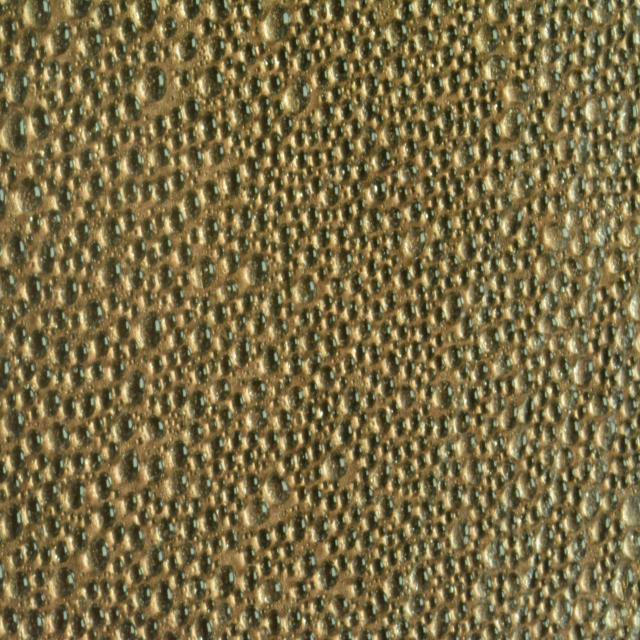dr: (0, 111, 28, 154), (264, 3, 292, 42), (141, 65, 168, 103), (22, 0, 54, 32), (16, 177, 43, 214), (190, 256, 218, 290), (46, 20, 72, 56), (542, 219, 571, 251), (284, 78, 309, 115), (614, 560, 635, 604), (84, 536, 109, 572), (245, 252, 271, 286), (8, 69, 32, 105), (99, 256, 124, 290), (141, 311, 163, 349), (199, 66, 225, 98), (28, 102, 51, 138), (101, 214, 124, 250), (134, 0, 159, 33), (126, 368, 148, 405), (52, 566, 77, 598), (244, 500, 272, 528), (79, 28, 104, 58), (118, 93, 143, 123), (118, 450, 140, 484), (166, 466, 190, 497), (176, 31, 199, 63), (213, 567, 236, 599), (221, 164, 243, 197), (432, 602, 451, 640), (154, 581, 174, 617), (442, 292, 464, 324), (574, 356, 596, 388), (264, 477, 290, 504), (36, 238, 56, 273), (553, 595, 573, 630), (324, 451, 348, 480), (6, 232, 27, 265), (590, 511, 611, 544), (82, 299, 105, 329), (548, 98, 567, 134), (615, 320, 634, 356), (452, 515, 471, 551), (621, 494, 640, 530), (16, 31, 38, 62), (96, 0, 118, 31), (124, 145, 146, 176), (584, 94, 606, 125), (58, 275, 80, 306), (48, 422, 70, 453), (597, 416, 617, 450), (506, 76, 530, 104), (405, 226, 426, 258), (193, 322, 214, 354), (485, 538, 506, 570), (6, 500, 23, 539), (502, 109, 523, 140), (587, 0, 613, 25), (24, 607, 44, 639), (49, 602, 69, 634), (199, 108, 217, 143), (387, 18, 408, 48), (479, 22, 500, 52), (582, 486, 601, 519), (485, 0, 509, 26), (318, 560, 338, 591), (68, 478, 86, 512), (146, 543, 164, 577), (623, 526, 640, 562), (166, 204, 187, 233), (410, 562, 431, 591), (98, 499, 117, 531), (509, 429, 528, 461), (233, 97, 253, 127), (482, 324, 502, 354), (6, 408, 26, 438), (30, 330, 50, 360), (246, 405, 270, 430), (232, 336, 252, 366), (61, 0, 94, 18), (262, 578, 283, 606), (260, 345, 280, 374), (297, 550, 317, 579), (25, 273, 42, 307), (2, 604, 20, 636), (465, 454, 483, 486), (562, 413, 580, 445), (296, 274, 315, 304), (505, 204, 524, 234), (537, 251, 556, 281), (0, 267, 19, 297), (146, 454, 165, 484), (386, 568, 405, 598), (518, 471, 537, 501), (555, 304, 576, 331), (0, 14, 20, 42), (82, 114, 102, 142), (125, 236, 145, 264), (542, 38, 562, 66), (620, 97, 636, 132), (514, 172, 534, 200), (518, 220, 538, 248), (569, 327, 589, 355), (42, 390, 62, 418), (607, 602, 627, 630), (374, 458, 392, 489), (501, 400, 519, 431), (206, 0, 229, 24), (363, 204, 382, 233), (435, 380, 454, 409), (574, 598, 595, 624), (624, 22, 640, 56), (56, 182, 74, 212), (183, 190, 201, 220), (384, 118, 402, 148), (578, 288, 596, 318), (188, 391, 208, 418), (188, 573, 206, 603), (193, 613, 213, 640), (398, 382, 416, 412), (536, 523, 554, 553), (458, 430, 478, 457), (359, 125, 377, 154), (12, 571, 30, 600), (343, 386, 361, 415), (207, 37, 227, 63), (456, 140, 476, 166), (398, 300, 418, 326), (321, 180, 340, 207), (8, 444, 27, 471), (157, 515, 176, 542), (55, 336, 71, 368), (334, 318, 351, 348), (200, 180, 222, 203), (222, 248, 240, 276), (398, 163, 419, 187), (488, 52, 506, 80), (620, 220, 638, 248), (117, 413, 135, 441), (569, 532, 587, 560), (181, 98, 201, 123), (595, 220, 611, 251), (267, 287, 283, 318), (520, 394, 536, 425), (77, 62, 96, 88), (158, 14, 177, 40), (127, 264, 146, 290), (202, 214, 219, 243), (26, 427, 43, 456), (72, 216, 90, 243), (368, 176, 386, 203), (408, 591, 426, 618), (503, 483, 521, 510), (211, 379, 232, 402), (571, 173, 586, 205), (97, 470, 113, 500), (145, 414, 165, 438), (291, 515, 307, 545), (518, 529, 533, 561), (582, 562, 598, 592), (237, 204, 254, 232), (389, 51, 406, 79), (586, 152, 603, 180), (243, 565, 260, 593), (476, 571, 493, 599), (590, 392, 609, 417), (45, 209, 63, 235), (153, 176, 171, 202), (416, 26, 434, 52), (172, 440, 190, 466), (556, 444, 574, 470), (516, 367, 534, 393), (586, 29, 601, 60), (27, 494, 42, 525), (122, 177, 138, 206), (180, 0, 203, 20), (185, 146, 205, 169), (326, 0, 346, 23), (573, 5, 593, 28), (318, 614, 338, 637), (0, 43, 17, 70), (253, 207, 270, 234), (571, 228, 588, 255), (113, 577, 130, 604), (313, 515, 330, 542), (100, 132, 119, 156), (86, 172, 105, 196), (561, 385, 580, 409), (120, 18, 138, 43), (436, 215, 454, 240), (248, 378, 266, 403), (438, 106, 454, 134), (612, 246, 628, 274), (128, 523, 144, 551), (373, 586, 389, 614), (422, 470, 438, 498), (539, 492, 555, 520), (511, 30, 528, 56), (528, 1, 545, 27), (488, 167, 505, 193), (337, 418, 354, 444), (68, 101, 84, 128), (140, 216, 158, 240), (220, 277, 238, 301), (303, 204, 319, 231), (333, 55, 349, 82), (427, 237, 445, 261), (446, 68, 462, 95), (558, 133, 574, 160), (470, 177, 488, 201), (460, 233, 476, 260), (466, 281, 484, 305), (80, 391, 96, 418), (94, 332, 110, 359), (385, 350, 401, 377), (350, 552, 368, 576), (565, 509, 583, 533), (495, 354, 513, 378), (58, 154, 75, 179), (58, 128, 75, 153), (153, 140, 170, 165), (77, 147, 94, 172), (360, 98, 377, 123), (374, 145, 391, 170), (612, 277, 629, 302), (115, 315, 132, 340), (250, 311, 267, 336), (89, 603, 106, 628), (223, 527, 240, 552), (276, 408, 293, 433), (396, 498, 413, 523), (413, 0, 434, 20), (540, 68, 560, 89), (549, 192, 564, 220), (476, 600, 496, 621), (556, 354, 571, 382), (169, 165, 185, 191), (428, 72, 444, 98), (218, 325, 234, 351), (306, 350, 322, 376), (286, 606, 302, 632), (376, 408, 392, 434), (182, 518, 200, 541), (318, 365, 336, 388), (488, 433, 506, 456), (158, 264, 175, 288), (42, 480, 59, 504), (243, 605, 260, 629), (58, 80, 73, 107), (220, 402, 233, 433), (336, 250, 352, 275), (538, 314, 558, 334), (70, 365, 86, 390), (172, 383, 188, 408), (322, 332, 338, 357), (70, 614, 86, 639), (144, 615, 160, 640), (380, 374, 396, 399), (434, 414, 450, 439), (618, 363, 634, 388), (586, 246, 605, 267), (331, 595, 350, 616), (392, 83, 410, 105), (567, 68, 585, 90), (542, 290, 560, 312), (611, 455, 629, 477), (176, 600, 190, 628), (204, 502, 218, 530), (556, 4, 573, 27), (591, 460, 608, 483), (299, 1, 314, 27), (121, 206, 136, 232), (576, 136, 591, 162), (0, 352, 10, 391), (623, 394, 638, 420), (105, 102, 121, 126), (296, 46, 312, 70), (176, 243, 192, 267), (319, 102, 335, 126), (329, 274, 345, 298), (466, 117, 482, 141), (484, 120, 500, 144), (424, 265, 440, 289), (77, 423, 93, 447), (110, 358, 126, 382), (272, 318, 288, 342), (46, 514, 62, 538), (50, 455, 66, 479), (136, 584, 152, 608), (197, 472, 213, 496), (282, 428, 298, 452), (359, 482, 375, 506), (359, 528, 375, 552), (418, 498, 434, 522), (506, 572, 522, 596), (447, 345, 463, 369), (548, 399, 564, 423), (524, 273, 538, 300), (302, 329, 320, 350), (286, 353, 304, 374), (74, 525, 88, 552), (242, 472, 260, 493), (244, 154, 259, 179), (516, 141, 531, 166), (396, 266, 411, 291), (458, 314, 473, 339), (343, 526, 358, 551), (449, 484, 464, 509), (313, 225, 330, 247), (496, 612, 513, 634), (29, 152, 45, 175), (208, 142, 224, 165), (356, 36, 372, 59), (69, 450, 85, 473), (180, 542, 196, 565), (455, 410, 471, 433), (315, 62, 328, 90), (343, 30, 357, 56), (55, 539, 69, 565), (268, 608, 281, 636), (554, 480, 568, 506), (82, 196, 97, 220), (157, 233, 172, 257), (512, 3, 527, 27), (559, 49, 574, 73), (533, 190, 548, 214), (501, 249, 516, 273), (71, 249, 86, 273), (88, 239, 103, 263), (74, 341, 89, 365), (218, 354, 233, 378), (295, 446, 310, 470), (379, 494, 394, 518), (464, 487, 482, 507), (622, 196, 639, 217), (143, 40, 159, 62), (105, 156, 121, 178), (266, 130, 282, 152), (386, 207, 402, 229), (423, 100, 439, 122), (566, 255, 582, 277), (566, 206, 582, 228), (302, 245, 318, 267), (509, 276, 525, 298), (52, 308, 68, 330), (120, 618, 136, 640), (128, 563, 144, 585), (483, 415, 499, 437), (530, 331, 546, 353), (286, 31, 300, 56), (591, 189, 605, 214), (24, 535, 38, 560), (466, 386, 480, 411), (153, 114, 168, 137), (416, 296, 431, 319), (21, 384, 36, 407), (367, 341, 382, 364), (535, 614, 550, 637), (540, 444, 555, 467), (244, 77, 262, 96), (347, 272, 364, 292), (7, 472, 20, 498), (170, 128, 184, 152), (168, 107, 184, 128), (120, 65, 136, 86), (108, 186, 122, 210), (275, 44, 289, 68), (237, 231, 251, 255), (280, 144, 296, 165), (368, 55, 384, 76), (466, 57, 480, 81), (573, 43, 587, 67), (408, 198, 422, 222), (420, 175, 436, 196), (508, 299, 524, 320), (371, 298, 385, 322), (23, 358, 37, 382), (213, 301, 227, 325), (377, 320, 391, 344), (3, 307, 17, 331), (189, 423, 205, 444), (363, 602, 377, 626), (441, 552, 455, 576), (603, 491, 619, 512), (582, 418, 596, 442), (610, 388, 624, 412), (44, 90, 59, 112), (278, 242, 293, 264), (339, 99, 354, 121), (354, 157, 369, 179), (403, 138, 418, 160), (13, 324, 28, 346), (88, 449, 103, 471), (396, 616, 411, 638), (408, 515, 423, 537), (539, 348, 556, 367), (88, 85, 102, 108), (439, 44, 453, 67), (62, 395, 76, 418), (454, 598, 468, 621), (397, 0, 413, 20), (432, 0, 452, 16), (386, 231, 402, 251), (543, 19, 559, 39), (344, 300, 360, 320), (413, 620, 429, 640), (138, 179, 153, 200), (277, 115, 292, 136), (228, 430, 243, 451), (473, 361, 488, 382), (514, 344, 529, 365), (537, 366, 552, 387), (47, 58, 60, 82), (254, 135, 267, 159), (294, 148, 307, 172), (476, 138, 489, 162), (626, 64, 639, 88), (195, 361, 208, 385), (526, 564, 539, 588), (106, 73, 120, 95), (256, 112, 270, 134), (304, 24, 318, 46), (340, 138, 354, 160), (420, 146, 434, 168), (436, 148, 450, 170), (600, 26, 614, 48), (599, 139, 613, 161), (603, 174, 617, 196), (364, 256, 378, 278), (478, 303, 492, 325), (585, 266, 599, 288), (383, 290, 397, 312), (171, 285, 185, 307), (179, 343, 193, 365), (112, 522, 126, 544), (198, 553, 212, 575), (258, 527, 272, 549), (555, 543, 569, 565), (578, 459, 592, 481), (504, 511, 518, 533), (543, 422, 557, 444), (0, 180, 8, 218), (248, 2, 267, 18), (255, 94, 271, 113), (550, 332, 566, 351), (481, 624, 500, 640), (272, 95, 284, 120), (366, 73, 378, 98), (333, 226, 348, 246), (352, 198, 367, 218), (429, 125, 444, 145), (614, 18, 626, 43), (606, 60, 621, 80), (551, 168, 566, 188), (610, 209, 622, 234), (443, 253, 458, 273), (264, 429, 279, 449), (483, 486, 498, 506), (314, 0, 327, 23), (38, 366, 51, 389), (303, 401, 316, 424), (409, 409, 422, 432), (246, 180, 260, 201), (598, 47, 612, 68), (618, 141, 632, 162), (86, 580, 100, 601), (220, 601, 234, 622), (365, 510, 379, 531), (428, 538, 442, 559), (468, 548, 482, 569), (502, 459, 516, 480), (275, 520, 287, 544), (311, 438, 323, 462), (429, 442, 441, 466), (537, 160, 550, 182), (499, 188, 512, 210), (613, 304, 626, 326), (172, 326, 185, 348), (159, 394, 172, 416), (225, 482, 238, 504), (283, 454, 296, 476), (326, 534, 339, 556), (418, 320, 431, 342), (332, 297, 347, 316), (118, 124, 132, 144), (267, 74, 281, 94), (272, 196, 286, 216), (277, 223, 291, 243), (378, 265, 392, 285), (554, 272, 568, 292), (596, 285, 610, 305), (28, 213, 42, 233), (298, 425, 312, 445), (358, 318, 372, 338), (409, 340, 423, 360), (348, 504, 362, 524), (571, 620, 585, 640), (492, 394, 506, 414), (554, 568, 568, 588), (503, 147, 515, 170), (503, 321, 515, 344), (401, 540, 413, 563), (443, 580, 455, 603), (115, 40, 128, 61), (349, 179, 362, 200), (614, 46, 627, 67), (241, 290, 254, 311), (259, 555, 272, 576), (339, 487, 352, 508), (394, 417, 407, 438), (409, 477, 422, 498), (428, 17, 443, 35), (561, 27, 576, 45), (209, 436, 224, 454), (567, 561, 582, 579), (278, 268, 292, 287), (416, 120, 430, 139), (584, 62, 598, 81), (457, 268, 471, 287), (524, 313, 538, 332), (128, 338, 142, 357), (166, 497, 180, 516), (289, 388, 303, 407), (402, 461, 416, 480), (371, 557, 385, 576), (593, 614, 607, 633), (622, 418, 636, 437), (243, 43, 255, 65), (600, 344, 612, 366), (353, 578, 365, 600), (343, 354, 355, 376), (31, 58, 44, 78), (223, 224, 236, 244), (528, 122, 541, 142), (597, 75, 610, 95), (604, 323, 617, 343), (198, 296, 211, 316), (232, 393, 245, 413), (319, 399, 332, 419), (367, 430, 380, 450), (449, 458, 462, 478), (578, 441, 594, 457), (260, 184, 272, 205), (607, 157, 621, 175), (489, 211, 501, 232), (494, 272, 508, 290), (62, 236, 76, 254), (234, 312, 248, 330), (245, 431, 259, 449), (338, 622, 352, 640), (402, 438, 414, 459), (529, 505, 541, 526), (480, 380, 494, 398), (536, 387, 548, 408), (60, 60, 73, 79), (201, 18, 214, 37), (131, 124, 144, 143), (298, 184, 311, 203), (329, 83, 342, 102), (164, 311, 177, 330), (349, 609, 362, 628), (443, 440, 456, 459), (616, 434, 629, 453), (332, 120, 344, 140), (349, 118, 361, 138), (455, 116, 467, 136), (530, 28, 542, 48), (569, 104, 584, 120), (424, 206, 436, 226), (412, 258, 424, 278), (310, 306, 322, 326), (12, 547, 24, 567), (134, 610, 146, 630), (190, 454, 206, 469), (308, 484, 320, 504), (365, 388, 377, 408), (376, 624, 391, 640), (541, 556, 553, 576), (434, 353, 446, 373), (612, 351, 624, 371), (106, 293, 120, 310), (325, 493, 339, 510), (473, 504, 487, 521), (46, 174, 59, 192), (232, 61, 245, 79), (223, 202, 236, 220), (293, 128, 306, 146), (459, 35, 472, 53), (474, 80, 487, 98), (473, 262, 486, 280), (488, 254, 501, 272), (567, 280, 580, 298), (286, 334, 299, 352), (416, 433, 429, 451), (0, 456, 8, 485), (40, 545, 51, 566), (113, 555, 124, 576), (404, 358, 415, 379), (42, 141, 54, 160), (102, 52, 114, 71), (446, 24, 458, 43), (616, 177, 628, 196), (453, 177, 465, 196), (350, 215, 362, 234), (458, 209, 470, 228), (16, 298, 28, 317), (36, 452, 48, 471), (34, 567, 46, 586), (424, 343, 436, 362), (422, 416, 434, 435), (416, 538, 428, 557), (434, 520, 446, 539), (598, 596, 610, 615), (486, 456, 498, 475), (544, 0, 558, 16), (566, 90, 580, 106), (612, 76, 626, 92), (183, 127, 196, 144), (239, 15, 252, 32), (189, 228, 202, 245), (294, 221, 307, 238), (340, 204, 353, 221), (90, 363, 103, 380), (300, 627, 317, 640), (320, 126, 331, 146), (379, 38, 390, 58), (325, 161, 336, 181), (101, 388, 112, 408), (355, 341, 365, 363), (175, 568, 185, 590), (295, 581, 306, 601), (391, 444, 402, 464), (533, 586, 544, 606), (179, 69, 191, 87), (146, 247, 158, 265), (285, 186, 297, 204), (308, 130, 320, 148), (408, 66, 420, 84), (415, 82, 427, 100), (442, 192, 454, 210), (455, 51, 467, 69), (479, 99, 491, 117), (461, 82, 473, 100), (628, 176, 640, 194), (472, 214, 484, 232), (58, 255, 70, 273), (142, 288, 154, 306), (125, 492, 137, 510), (313, 595, 325, 613), (396, 322, 408, 340), (335, 512, 347, 530), (475, 519, 487, 537), (494, 587, 506, 605), (612, 519, 624, 537), (495, 502, 507, 520), (470, 344, 482, 362), (547, 577, 559, 595), (480, 241, 490, 262), (311, 175, 322, 194), (351, 57, 362, 76), (518, 605, 529, 624), (509, 550, 520, 569), (564, 465, 575, 484), (268, 152, 281, 168), (540, 92, 553, 108), (607, 94, 620, 110), (241, 449, 254, 465), (611, 536, 624, 552), (230, 36, 242, 53), (398, 185, 410, 202), (486, 192, 498, 209), (574, 26, 586, 43), (369, 233, 381, 250), (270, 380, 282, 397), (224, 452, 236, 469), (470, 4, 482, 21), (406, 37, 416, 57), (322, 294, 332, 314), (6, 391, 16, 411), (54, 368, 64, 388), (168, 347, 178, 367), (325, 310, 335, 330), (0, 560, 5, 600), (338, 552, 348, 572), (505, 375, 515, 395), (223, 20, 234, 38), (231, 130, 242, 148), (258, 233, 269, 251), (348, 9, 359, 27), (527, 46, 538, 64), (358, 232, 369, 250), (443, 273, 454, 291), (415, 280, 426, 298), (109, 603, 120, 621), (108, 441, 119, 459), (161, 629, 179, 640), (211, 535, 222, 553), (352, 442, 363, 460), (391, 474, 402, 492), (387, 548, 398, 566), (467, 613, 478, 631), (599, 557, 610, 575), (549, 380, 560, 398), (598, 368, 609, 386), (568, 582, 579, 600), (518, 252, 532, 266), (528, 607, 541, 622), (232, 1, 244, 17), (262, 54, 274, 70), (536, 140, 548, 156), (462, 170, 474, 186), (478, 201, 490, 217), (123, 550, 135, 566), (166, 555, 178, 571), (206, 358, 218, 374), (506, 595, 518, 611), (212, 461, 222, 480), (414, 373, 424, 392), (458, 554, 468, 573), (269, 214, 280, 231), (382, 78, 393, 95), (438, 176, 449, 193), (454, 99, 465, 116), (485, 288, 496, 305), (113, 340, 124, 357), (416, 453, 427, 470), (439, 461, 450, 478), (532, 421, 543, 438), (459, 363, 470, 380), (543, 597, 554, 614), (358, 627, 372, 640), (6, 166, 16, 184), (221, 120, 231, 138), (263, 167, 275, 182), (312, 148, 322, 166), (340, 162, 350, 180), (621, 161, 633, 176), (606, 298, 618, 313), (591, 325, 603, 340), (494, 304, 504, 322), (153, 354, 163, 372), (300, 309, 310, 327), (100, 579, 110, 597), (297, 484, 307, 502), (370, 370, 380, 388), (358, 467, 370, 482), (534, 460, 544, 478), (478, 438, 488, 456), (515, 328, 527, 343), (518, 513, 530, 528), (155, 211, 165, 229), (274, 176, 285, 192), (374, 113, 385, 129), (404, 120, 415, 136), (522, 64, 533, 80), (494, 100, 505, 116), (491, 147, 502, 163), (80, 279, 91, 295), (146, 272, 157, 288), (243, 545, 254, 561), (331, 391, 342, 407), (529, 438, 540, 454), (603, 578, 614, 594), (543, 469, 554, 485), (130, 50, 141, 66), (180, 497, 189, 516), (0, 151, 10, 168), (367, 8, 377, 25), (317, 266, 327, 283), (481, 225, 491, 242), (43, 283, 53, 300), (284, 300, 294, 317), (307, 379, 317, 396), (286, 561, 296, 578), (306, 511, 316, 528), (314, 417, 324, 434), (427, 366, 437, 383), (358, 410, 368, 427), (495, 569, 505, 586), (507, 532, 517, 549), (608, 473, 618, 490), (630, 467, 640, 484), (530, 351, 540, 368), (602, 118, 612, 135), (351, 77, 363, 91), (591, 339, 603, 353), (322, 248, 333, 263), (467, 99, 478, 114), (320, 208, 331, 223), (142, 488, 153, 503), (424, 383, 435, 398), (494, 473, 505, 488), (41, 308, 50, 326), (270, 542, 279, 560), (494, 376, 503, 394), (223, 54, 233, 70), (290, 204, 300, 220), (388, 182, 398, 198), (348, 236, 358, 252), (598, 304, 606, 324), (70, 314, 80, 330), (182, 308, 192, 324), (35, 591, 45, 607), (139, 509, 149, 525), (192, 497, 202, 513), (400, 480, 410, 496), (436, 500, 446, 516), (444, 508, 454, 524), (464, 570, 474, 586), (580, 120, 590, 136), (228, 511, 240, 524), (586, 80, 597, 94), (207, 418, 218, 432), (276, 561, 287, 575), (338, 376, 349, 390), (386, 612, 397, 626), (448, 165, 457, 182), (232, 82, 242, 97), (256, 40, 266, 55), (312, 47, 322, 62), (456, 13, 466, 28), (488, 87, 498, 102), (536, 107, 546, 122), (174, 367, 184, 382), (154, 499, 164, 514), (312, 464, 322, 479), (555, 506, 565, 521), (619, 475, 629, 490), (215, 244, 225, 259), (73, 175, 83, 190), (13, 374, 22, 390), (181, 270, 190, 286), (33, 472, 42, 488), (88, 624, 97, 640), (235, 496, 244, 512), (386, 530, 395, 546), (456, 580, 465, 596), (322, 44, 333, 57), (330, 28, 340, 42), (148, 396, 158, 410), (283, 374, 293, 388), (23, 465, 30, 485), (162, 372, 172, 386), (284, 542, 294, 556), (377, 543, 387, 557), (464, 588, 474, 602), (494, 523, 504, 537), (434, 333, 444, 347), (610, 127, 620, 141), (568, 163, 578, 177), (525, 455, 535, 469), (608, 552, 618, 566), (536, 408, 546, 422), (512, 240, 522, 254), (218, 502, 226, 519), (126, 599, 135, 614), (274, 448, 283, 463), (355, 426, 364, 441), (422, 401, 431, 416), (566, 119, 575, 134), (268, 397, 280, 408), (326, 148, 336, 161), (256, 290, 266, 303), (380, 442, 390, 455), (331, 479, 341, 492), (119, 0, 129, 13), (306, 113, 314, 129), (325, 438, 333, 454), (429, 595, 437, 611), (578, 404, 586, 420), (389, 168, 398, 182), (294, 470, 303, 484), (475, 413, 484, 427), (480, 400, 489, 414), (591, 128, 600, 142), (535, 243, 544, 257), (361, 289, 370, 303), (121, 298, 130, 312), (38, 45, 47, 59), (380, 248, 390, 260), (190, 296, 200, 308), (31, 405, 39, 420), (302, 614, 314, 624), (426, 522, 434, 537), (387, 106, 396, 119), (206, 597, 215, 610), (547, 140, 556, 153), (521, 592, 530, 605), (25, 233, 34, 246), (400, 107, 408, 121), (486, 515, 494, 529), (554, 520, 562, 534), (630, 437, 638, 451), (467, 21, 475, 35), (515, 58, 523, 72), (270, 240, 278, 254), (293, 238, 301, 252), (244, 135, 252, 149), (436, 285, 444, 299), (15, 354, 24, 366), (328, 420, 337, 432), (424, 612, 433, 624), (473, 538, 482, 550), (532, 552, 541, 564), (582, 391, 591, 403), (132, 305, 140, 318), (295, 412, 303, 425), (440, 479, 448, 492), (609, 374, 617, 387), (331, 208, 339, 221), (287, 170, 295, 183), (163, 45, 171, 58), (0, 332, 6, 349), (54, 504, 64, 514), (215, 490, 222, 504), (96, 417, 104, 429), (114, 386, 122, 398), (153, 378, 161, 390), (210, 403, 218, 415), (0, 487, 6, 503), (230, 624, 238, 636), (302, 598, 310, 610), (378, 524, 386, 536), (448, 331, 456, 343), (298, 172, 306, 184), (86, 263, 94, 275), (202, 537, 209, 550), (308, 579, 315, 592), (254, 457, 261, 470), (430, 563, 437, 576), (602, 543, 609, 556), (63, 524, 72, 534), (220, 631, 230, 640), (322, 23, 330, 34), (242, 629, 250, 640), (217, 478, 225, 489), (305, 474, 313, 485), (484, 474, 492, 485), (306, 165, 314, 176), (78, 596, 85, 608), (101, 431, 108, 443), (334, 362, 341, 374), (360, 366, 367, 378), (292, 257, 299, 269), (458, 383, 466, 393), (84, 511, 91, 522), (107, 411, 113, 423), (236, 460, 242, 472), (256, 447, 264, 456), (179, 420, 186, 430), (594, 449, 601, 459), (469, 206, 476, 216), (264, 449, 271, 458), (399, 605, 406, 614), (391, 600, 397, 610), (185, 626, 192, 634), (21, 488, 25, 500), (114, 404, 120, 412), (262, 460, 268, 468), (144, 352, 148, 363), (213, 560, 220, 566), (70, 512, 75, 520), (163, 443, 168, 450), (78, 514, 83, 520), (27, 488, 31, 494), (168, 427, 172, 433)
